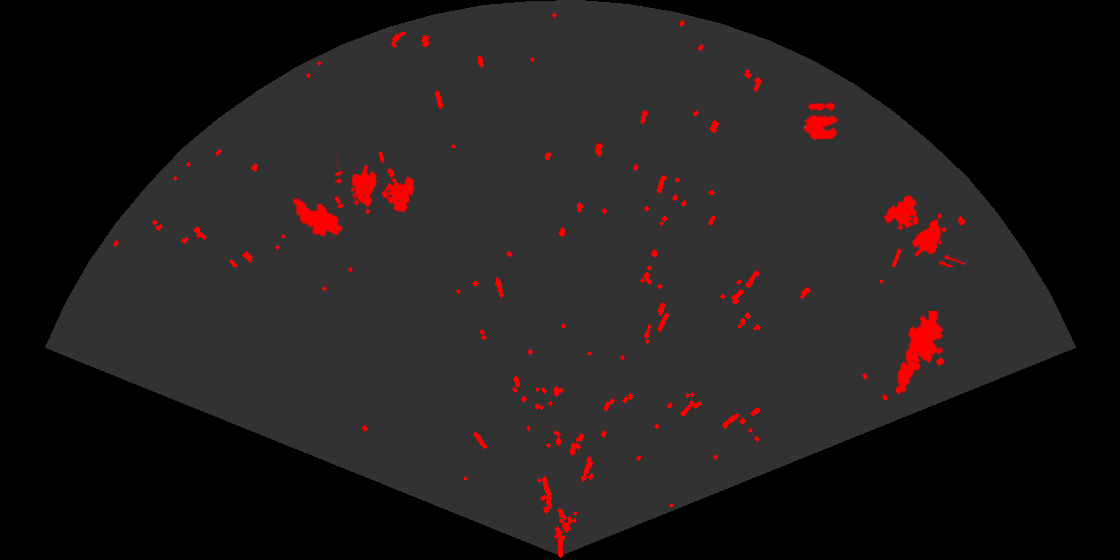AUV: (291, 196, 344, 238)
ball: (802, 101, 840, 141)
cage: (882, 194, 966, 267), (335, 152, 416, 215)
frogman: (894, 311, 945, 396)
